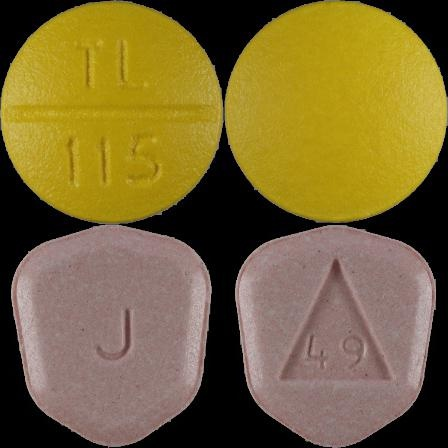63187-251: (0, 0, 224, 224)
